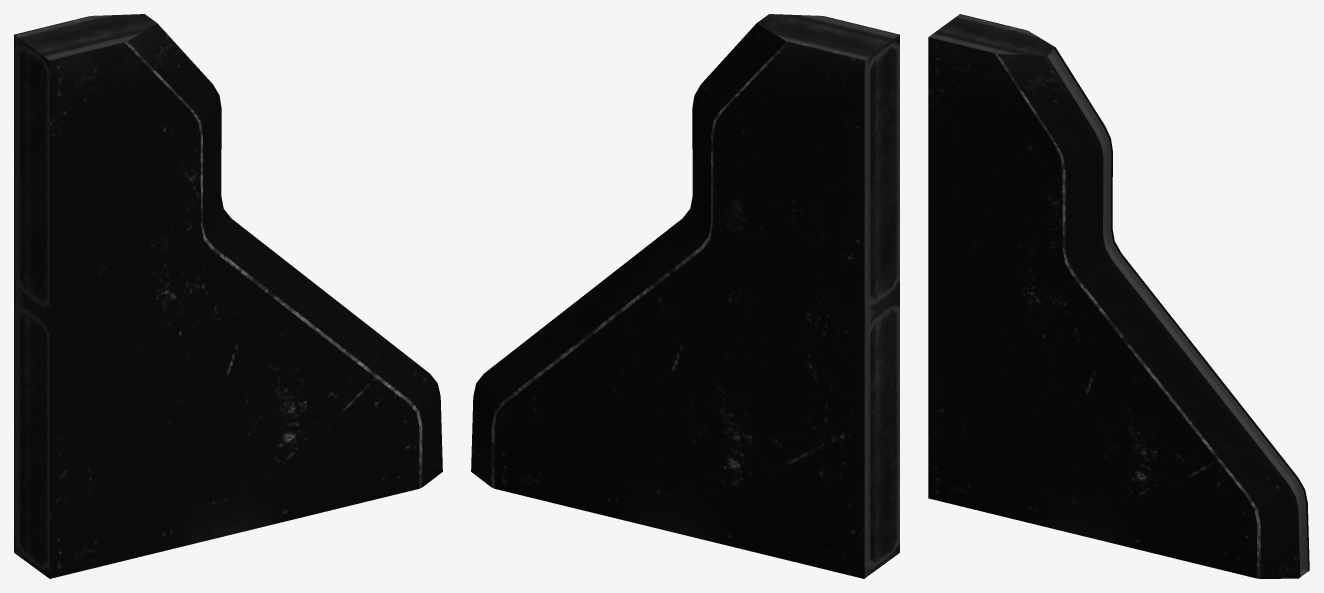
The model's file is SM_Wall_Partition_A.FBX.
3 renders of one model, left to right at view 1: azimuth 30°, elevation 25°; view 2: azimuth 150°, elevation 25°; view 3: azimuth 330°, elevation 25°, orthographic. The views are drawn at different scales.
Visible parts, largest first — view 1: SM_Wall_Partition_A; view 2: SM_Wall_Partition_A; view 3: SM_Wall_Partition_A.
Part boxes in pixels (x1,y1,x2,y2): SM_Wall_Partition_A: [14, 14, 442, 578]; SM_Wall_Partition_A: [471, 14, 899, 578]; SM_Wall_Partition_A: [928, 14, 1309, 578].
Bounding box in the file's own units: 327 × 400 × 50.
Materials: 1 (1 with a texture image).
